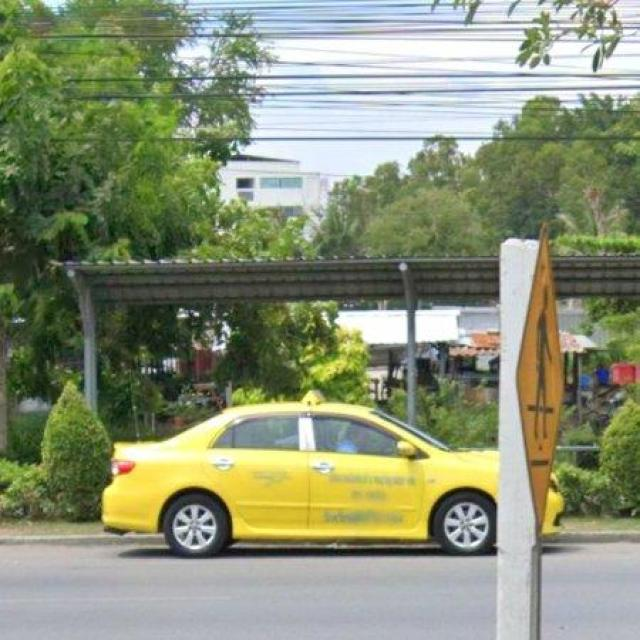Taxi: (102, 397, 499, 557)
